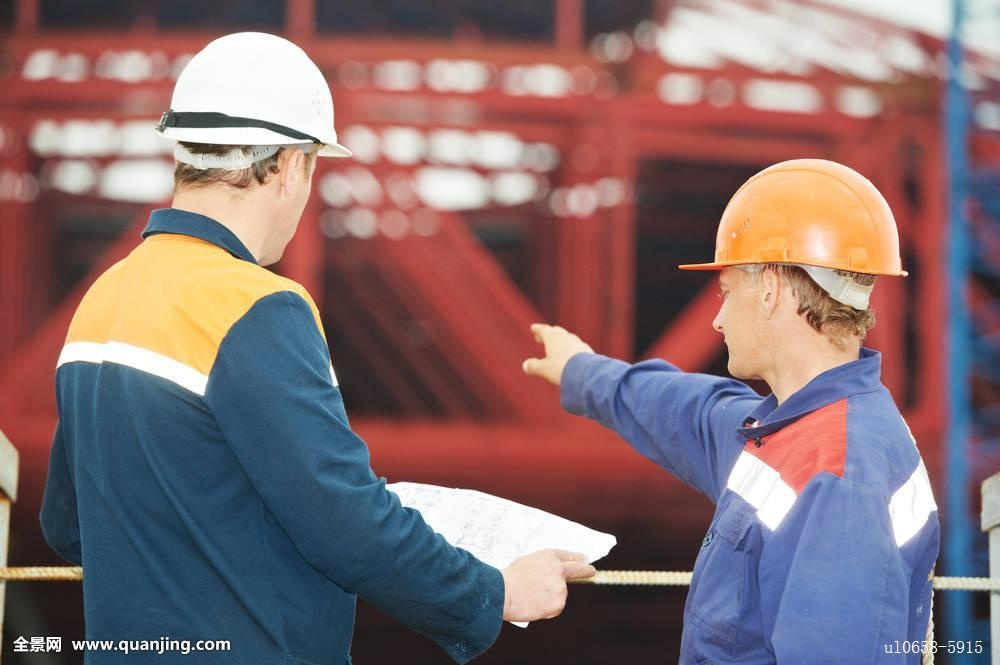white: (150, 24, 347, 273)
yellow: (695, 153, 912, 393)
